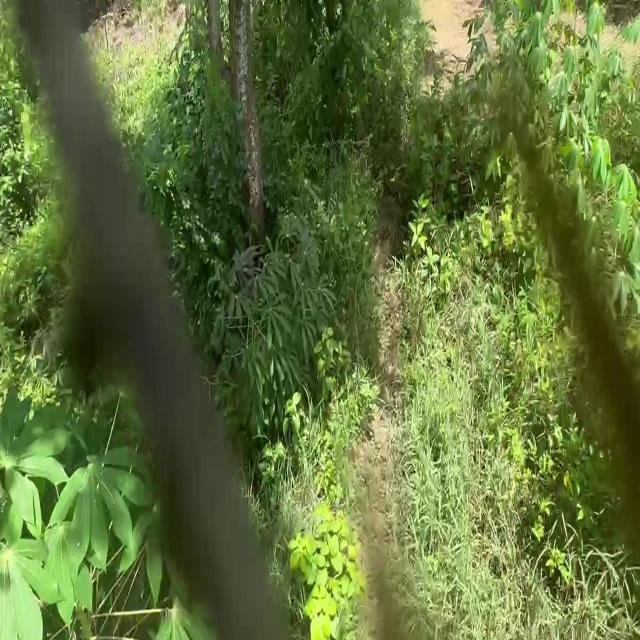Maleza: (459, 335, 640, 550), (355, 439, 535, 640), (307, 341, 521, 473), (436, 523, 640, 640), (394, 207, 521, 353), (262, 501, 362, 638)
Mosca: (102, 515, 131, 536), (66, 539, 94, 560)
